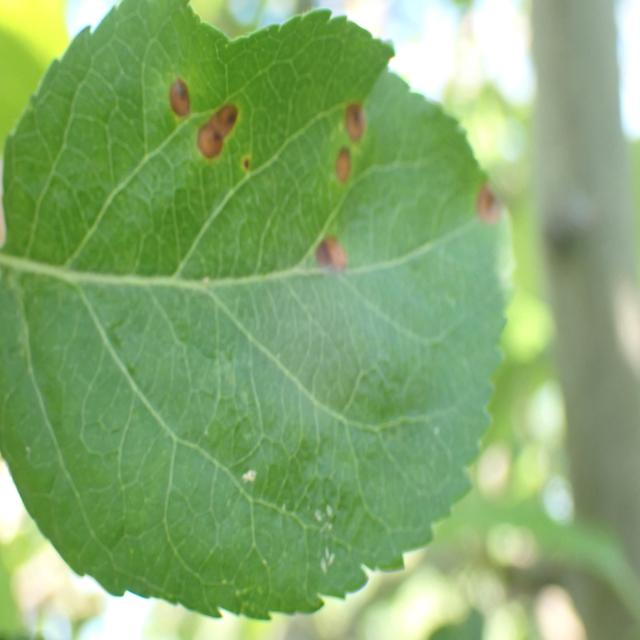Black Rot: (462, 153, 507, 250), (194, 91, 243, 175), (307, 223, 351, 291), (332, 91, 380, 146), (166, 55, 197, 129), (326, 144, 364, 191)
